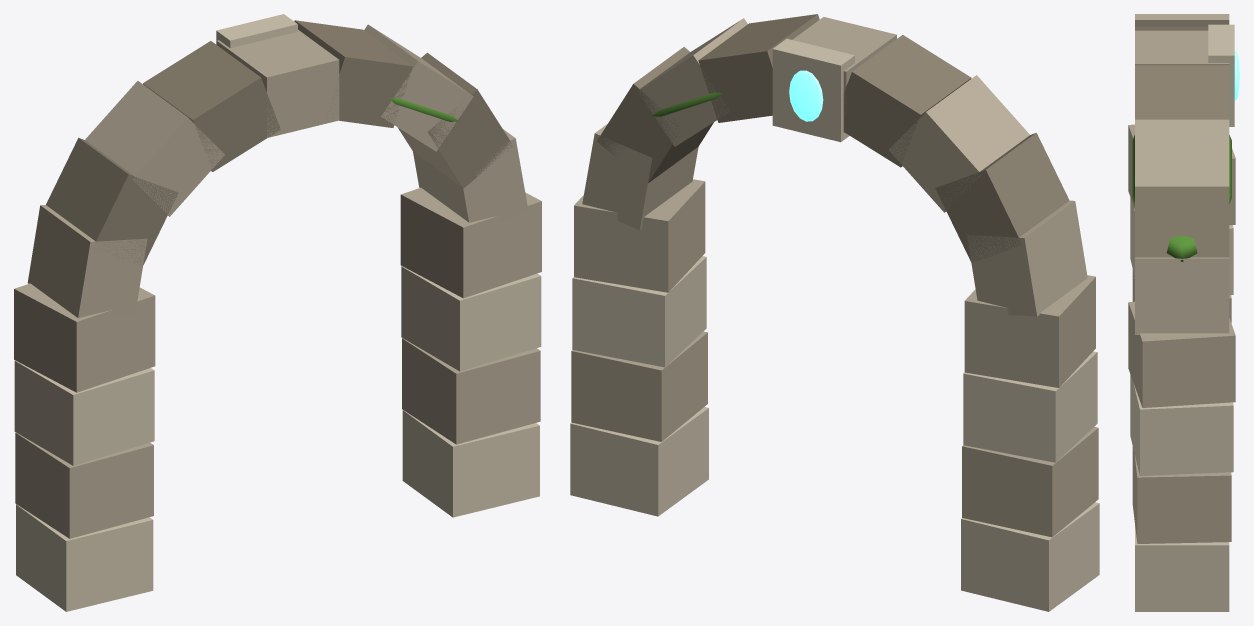
The model's file is RuinArch.glb.
3 renders of one model, left to right at view 1: azimuth 30°, elevation 25°; view 2: azimuth 150°, elevation 25°; view 3: azimuth 270°, elevation 25°, orthographic. The views are drawn at different scales.
Visible parts, largest first — view 1: Body; view 2: Body, Rune; view 3: Body, Rune.
Boxes of the visible parts, bbox=[...] form: Body: bbox=[14, 14, 541, 611]; Body: bbox=[570, 14, 1099, 611]; Rune: bbox=[789, 70, 823, 121]; Body: bbox=[1128, 14, 1235, 611]; Rune: bbox=[1234, 51, 1239, 100].
Size of the model in its own units: 10.05 by 9.75 by 2.12.
Materials: 2 (1 with a texture image).
